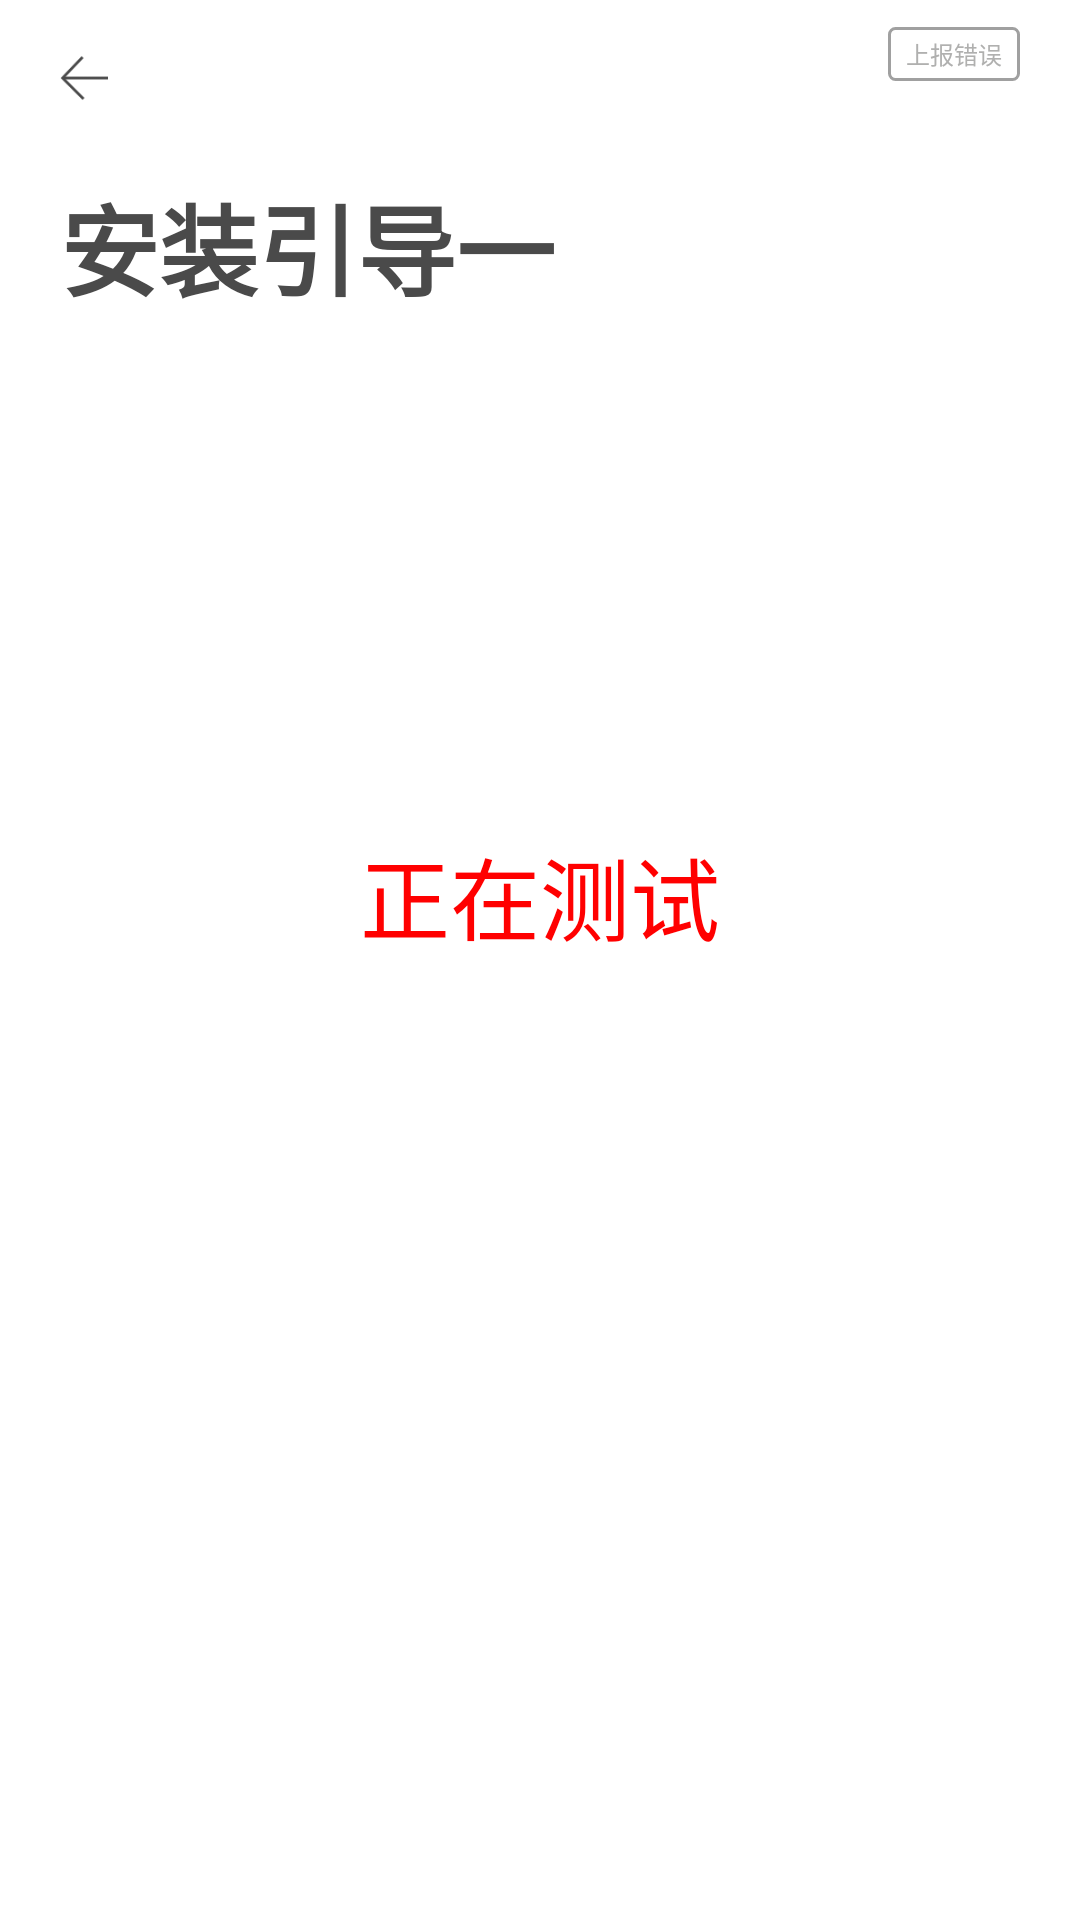

Screen size 1080x1920. Icon name, then its center in pixels as (x=x, y=y):
back: (x=84, y=78)
